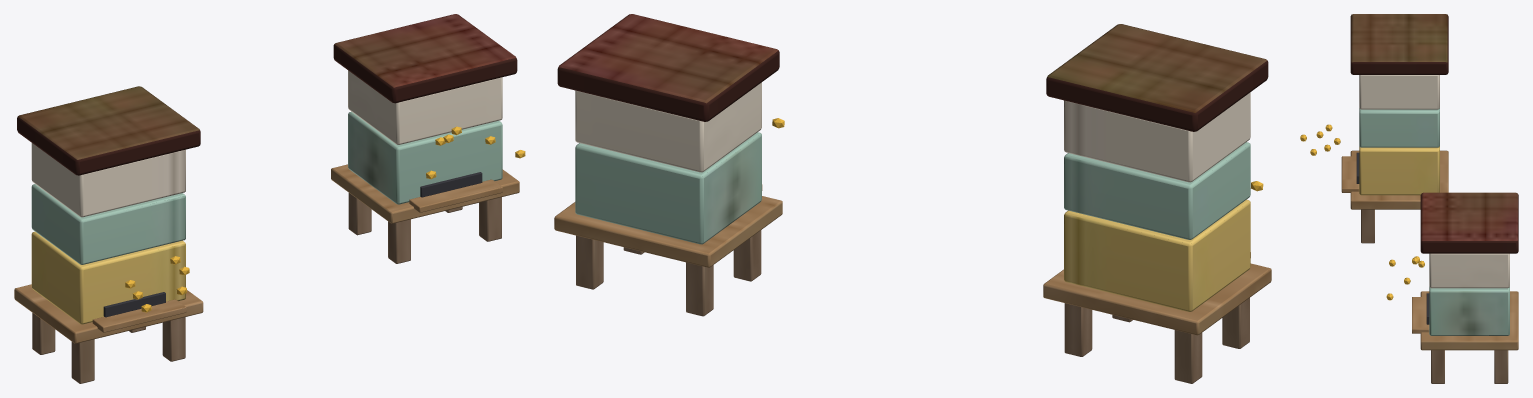
Rendered from unlock-beehive-xuan.glb.
3 views of the same model, side by side, from view 1: azimuth 30°, elevation 25°; view 2: azimuth 150°, elevation 25°; view 3: azimuth 270°, elevation 25° (orthographic). The views are drawn at different scales.
Parts seen in each view (by area): view 1: unlock-beehive-static; view 2: unlock-beehive-static; view 3: unlock-beehive-static.
Part boxes in pixels (x1=…): unlock-beehive-static: x1=14, y1=14, x2=519, y2=383; unlock-beehive-static: x1=554, y1=14, x2=1271, y2=383; unlock-beehive-static: x1=1341, y1=14, x2=1518, y2=383.
Size of the model in its own units: 1.29 by 0.5849 by 0.6236.
14 materials, 12 textured.
